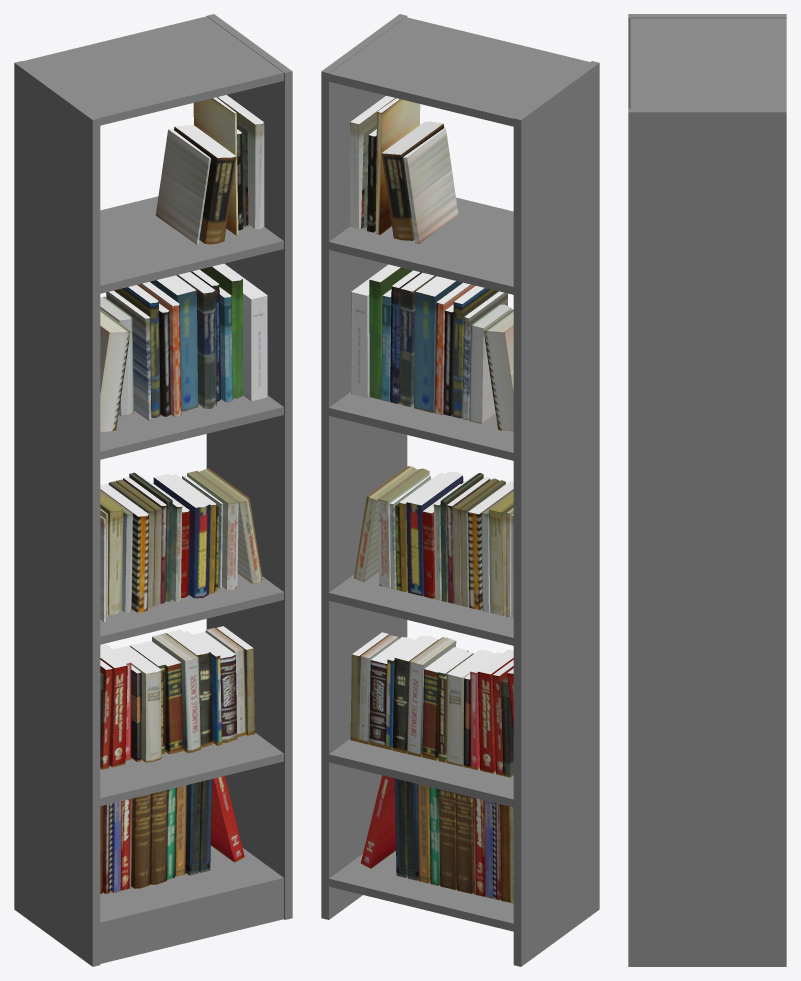
File: Bookshelf 1.FBX
3 views of the same model, side by side, from view 1: azimuth 30°, elevation 25°; view 2: azimuth 150°, elevation 25°; view 3: azimuth 270°, elevation 25° (orthographic).
Parts seen in each view (by area): view 1: bookshelf 1, books; view 2: bookshelf 1, books; view 3: bookshelf 1.
Boxes of the visible parts, x1=… form: bookshelf 1: x1=14, y1=14, x2=292, y2=966; books: x1=100, y1=95, x2=267, y2=893; bookshelf 1: x1=321, y1=14, x2=599, y2=966; books: x1=350, y1=95, x2=513, y2=903; bookshelf 1: x1=628, y1=14, x2=786, y2=966.
Bounding box in the file's own units: 0.5 × 2.02 × 0.34.
2 materials, 1 textured.
